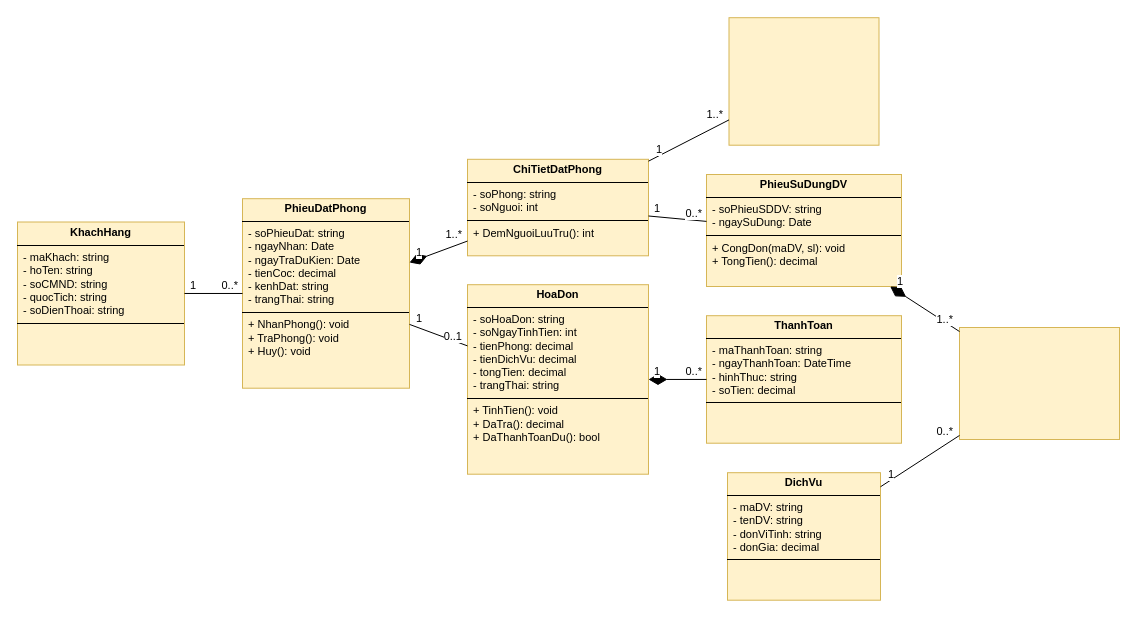
This 1137x618 diagram has some shape labels left out. The shapes that lost their labels are listed below. From the top down, each one's centre as x and y in pixels, then its label:
At (803,81): "NguoiLuuTru - maNguoiLT: int - hoTen: string - soCMND: string - quocTich: string".
At (1039,383): "ChiTietSuDungDV - soLuong: int - donGia: decimal - thanhTien: decimal".
